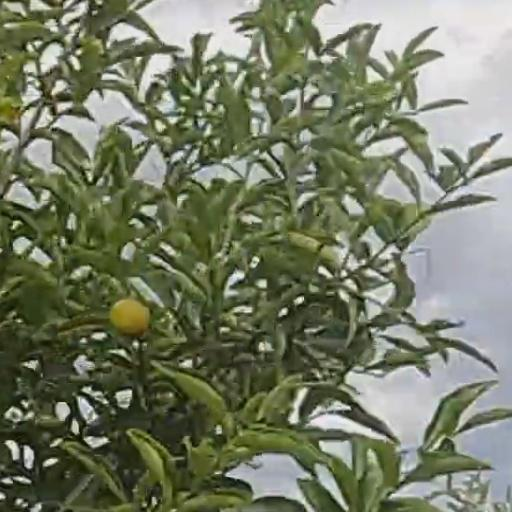acerola: (108, 300, 149, 336)
